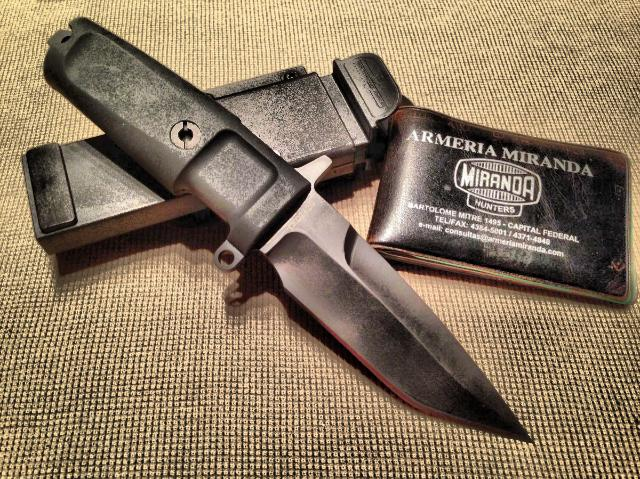knife: (253, 190, 542, 448)
